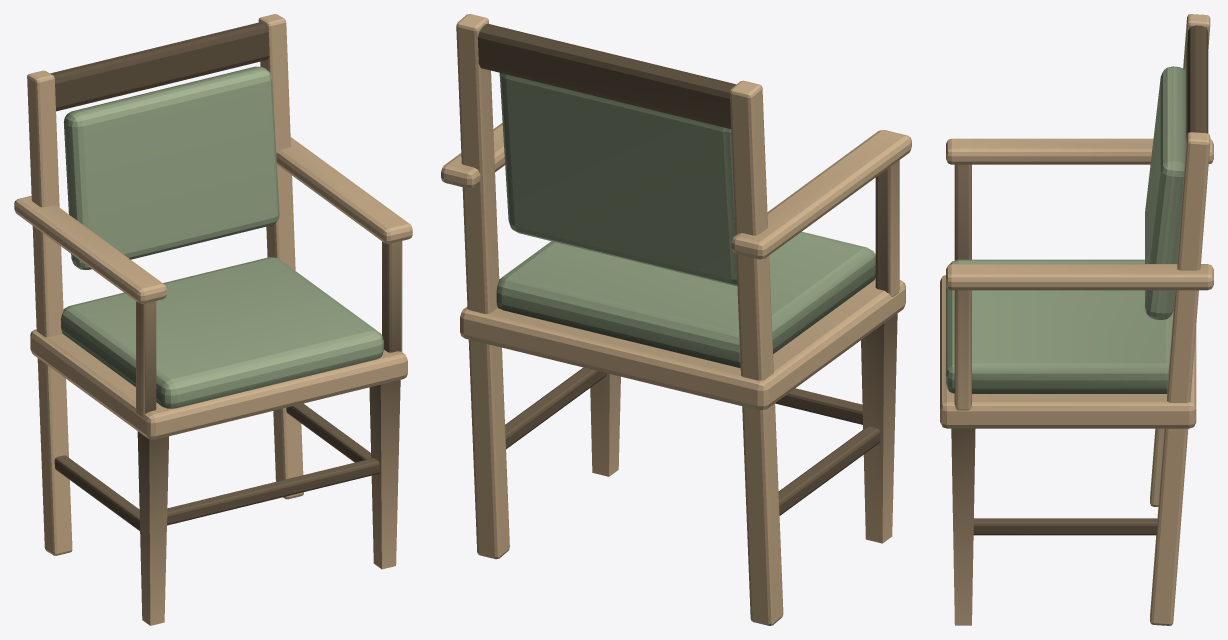
File: chairArm.glb
3 views of the same model, side by side, from view 1: azimuth 30°, elevation 25°; view 2: azimuth 150°, elevation 25°; view 3: azimuth 270°, elevation 25° (orthographic). The views are drawn at different scales.
Parts seen in each view (by area): view 1: chairArm; view 2: chairArm; view 3: chairArm.
Boxes of the visible parts, <box> form: chairArm: <box>14,14,412,625</box>; chairArm: <box>441,14,911,625</box>; chairArm: <box>940,14,1213,625</box>.
Bounding box in the file's own units: 0.57 × 0.922 × 0.47.
